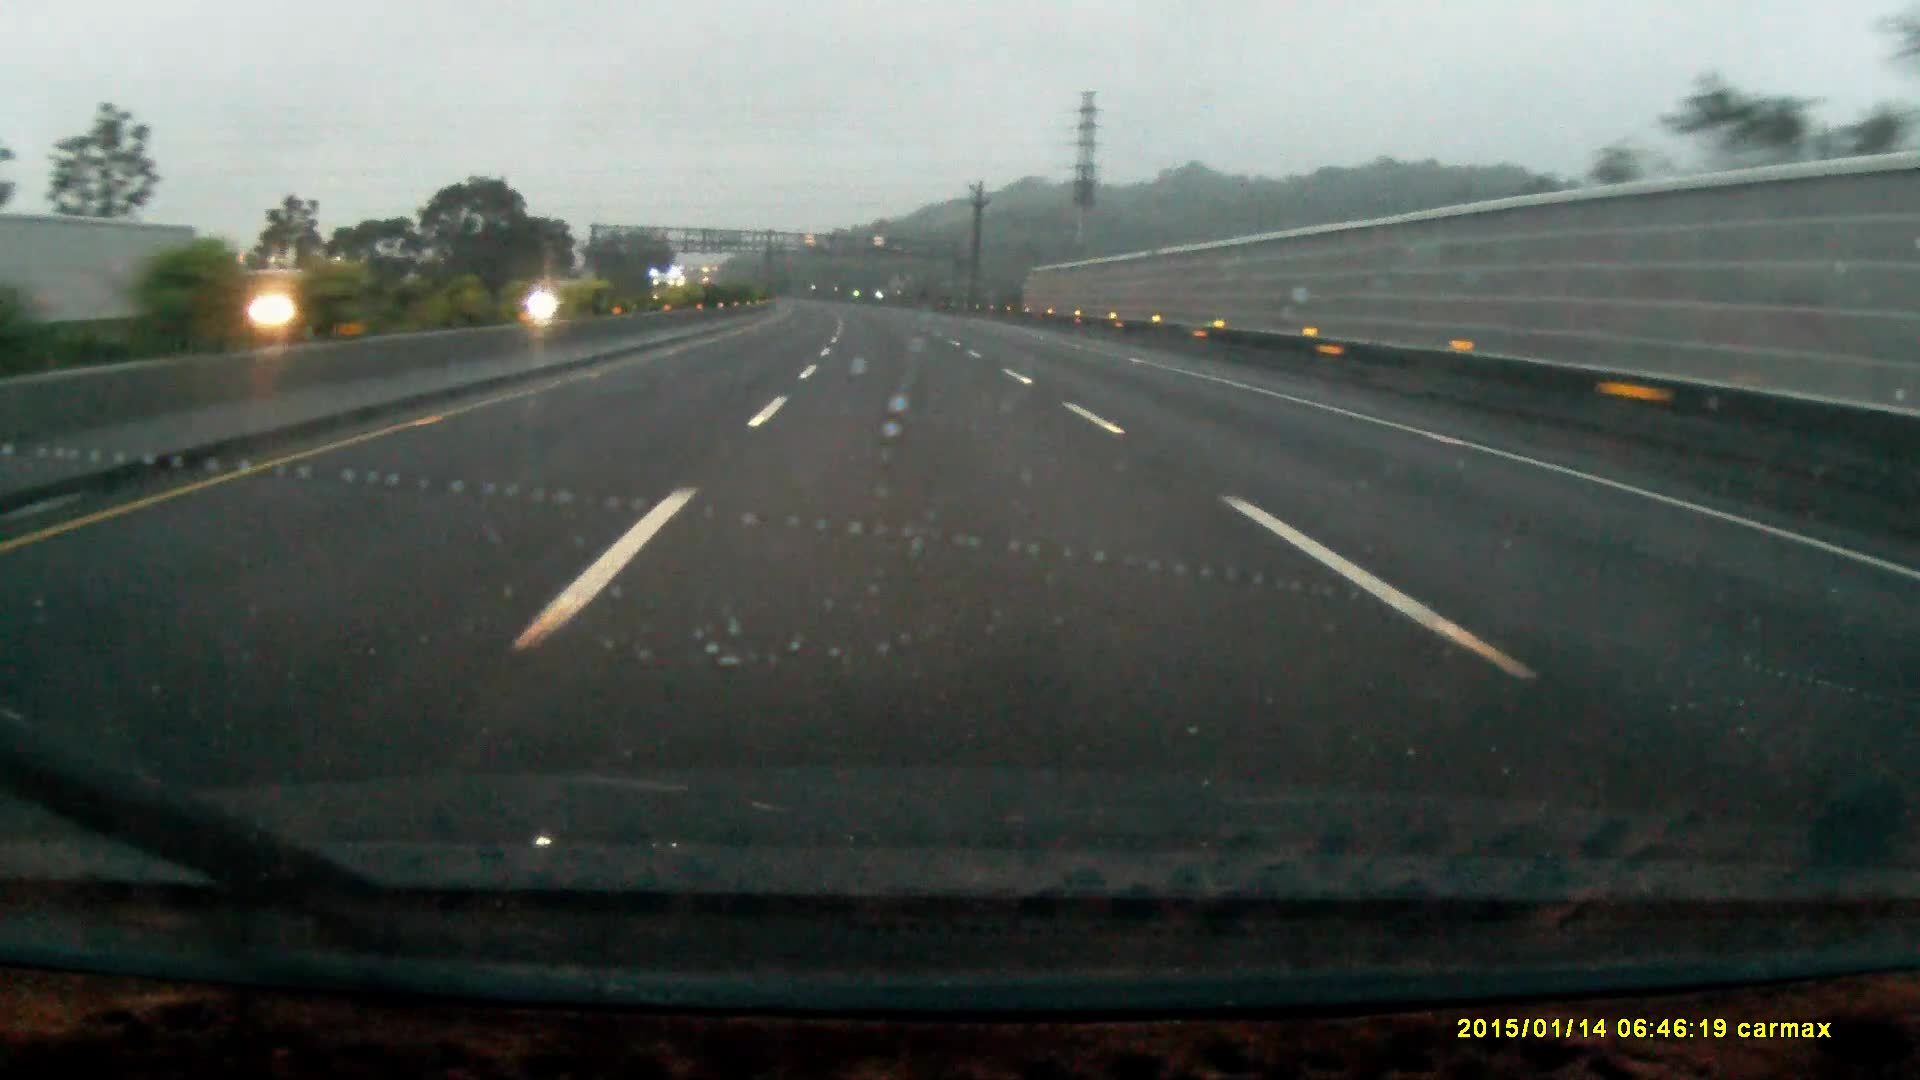vehicle: (651, 266, 691, 305)
